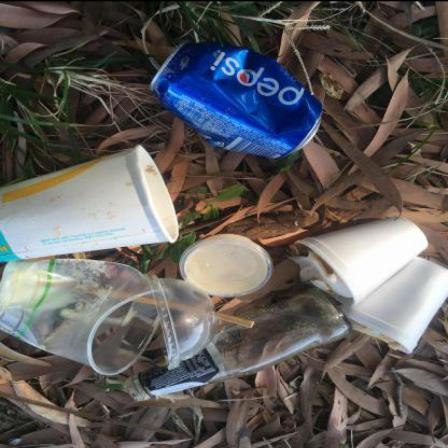Bottle: (126, 285, 354, 401)
Can: (151, 41, 325, 159)
Cup: (2, 145, 180, 263), (2, 258, 162, 375), (296, 216, 430, 308), (340, 256, 448, 354)
Lid: (146, 275, 220, 371), (180, 236, 275, 298)
Plastic container: (179, 234, 275, 298)
Straw: (134, 296, 257, 328)
Unlabeled litter: (288, 248, 354, 297)
